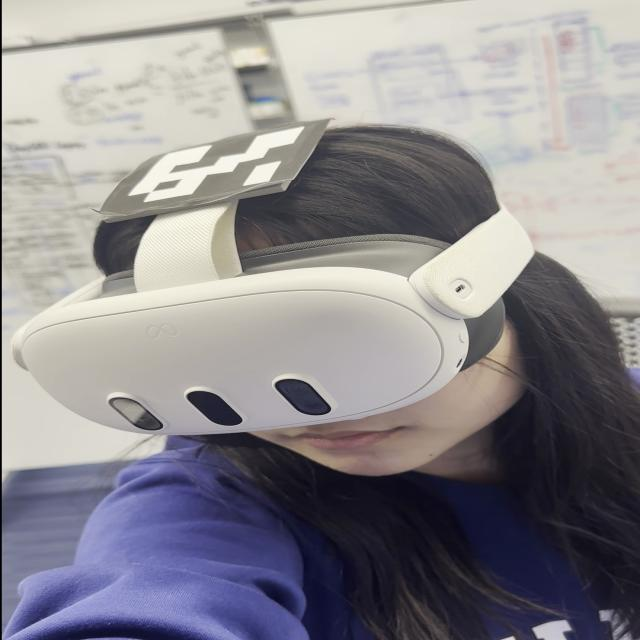Aruco Marker: (90, 116, 334, 223)
VR Headset: (11, 120, 534, 436)
